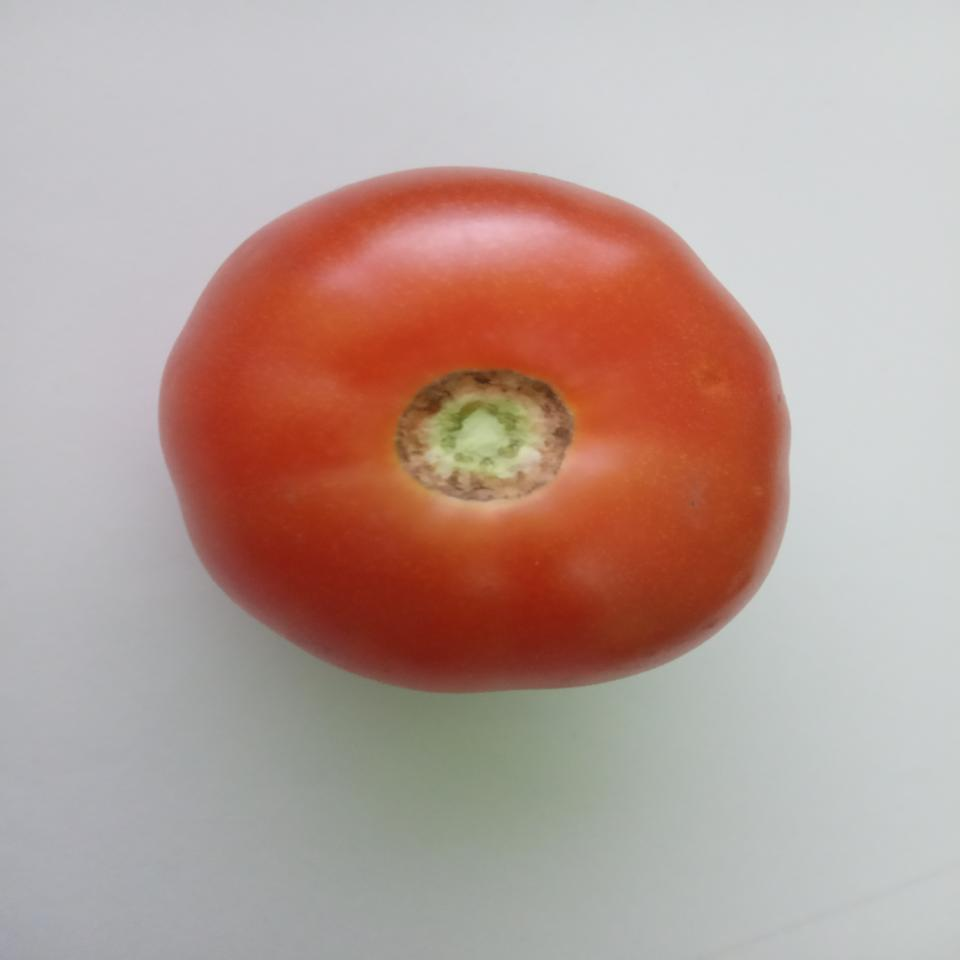Healthy: (151, 155, 799, 700)
